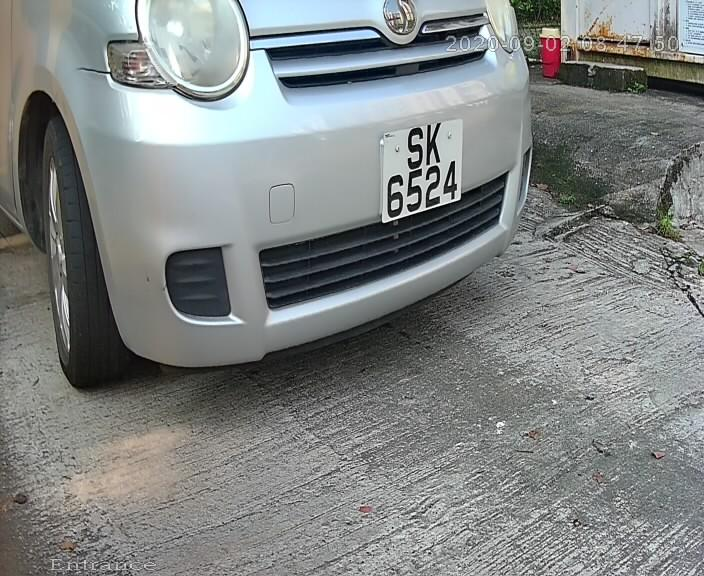License Plate: (368, 101, 469, 242)
